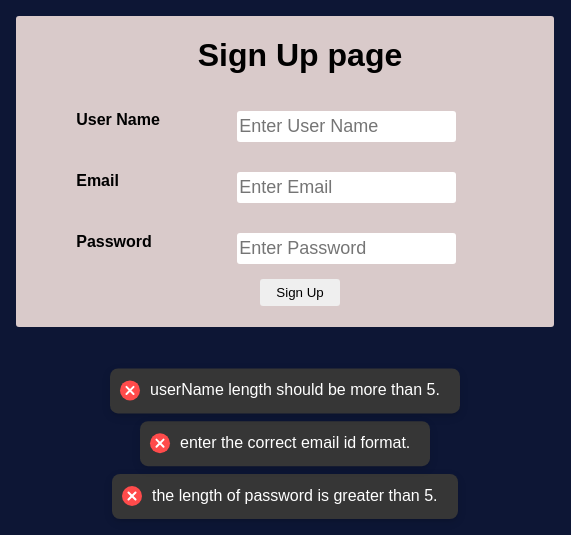
Scenario: testing for signUp Page › when form submitted successfully
The image size is (571, 535).
Type "tikam suvasiya" into the field with placeholder "Enter User Name" at (347, 126), box [237,111,456,142]
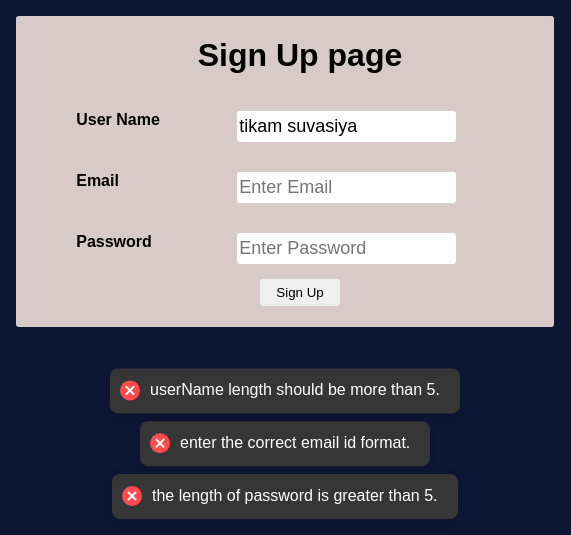
Type "xyz@gmail.com" into the field with placeholder "Enter Email" at (347, 187), box [237,172,456,203]
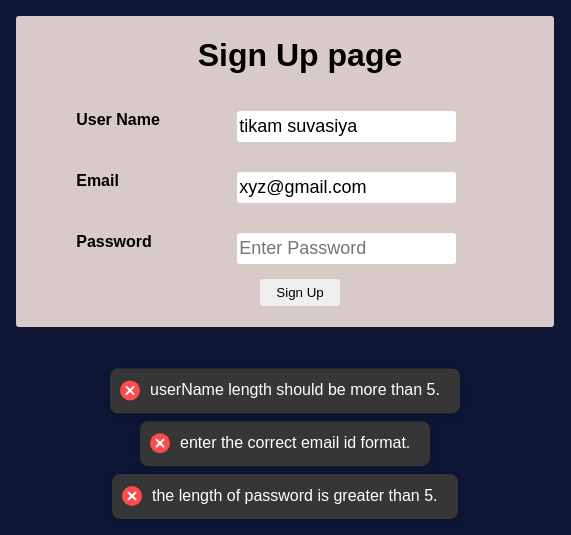
Type "password123" into the password field with placeholder "Enter Password" at (347, 248), box [237,233,456,264]
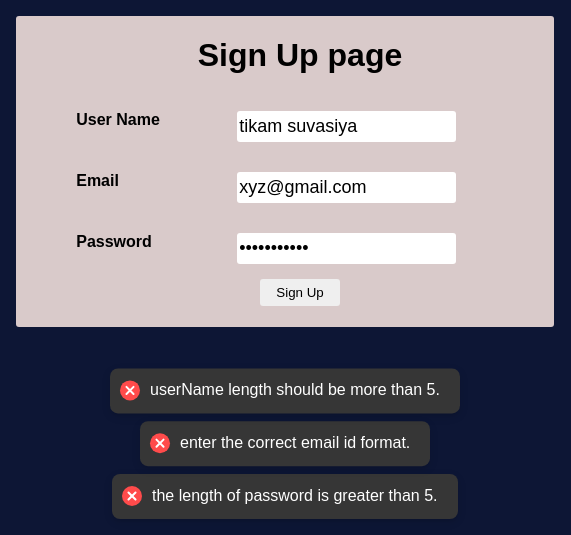
Click the button at (300, 292), box [260,279,340,306]
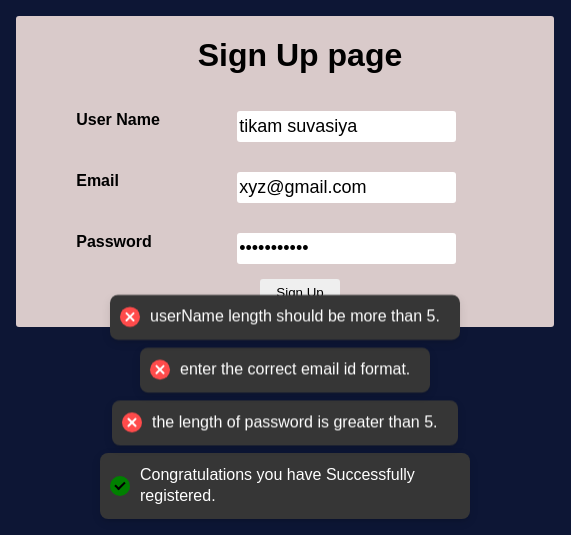
Result: the text "Congratulations you have Successfully registered." is shown at [140,465,450,507]
